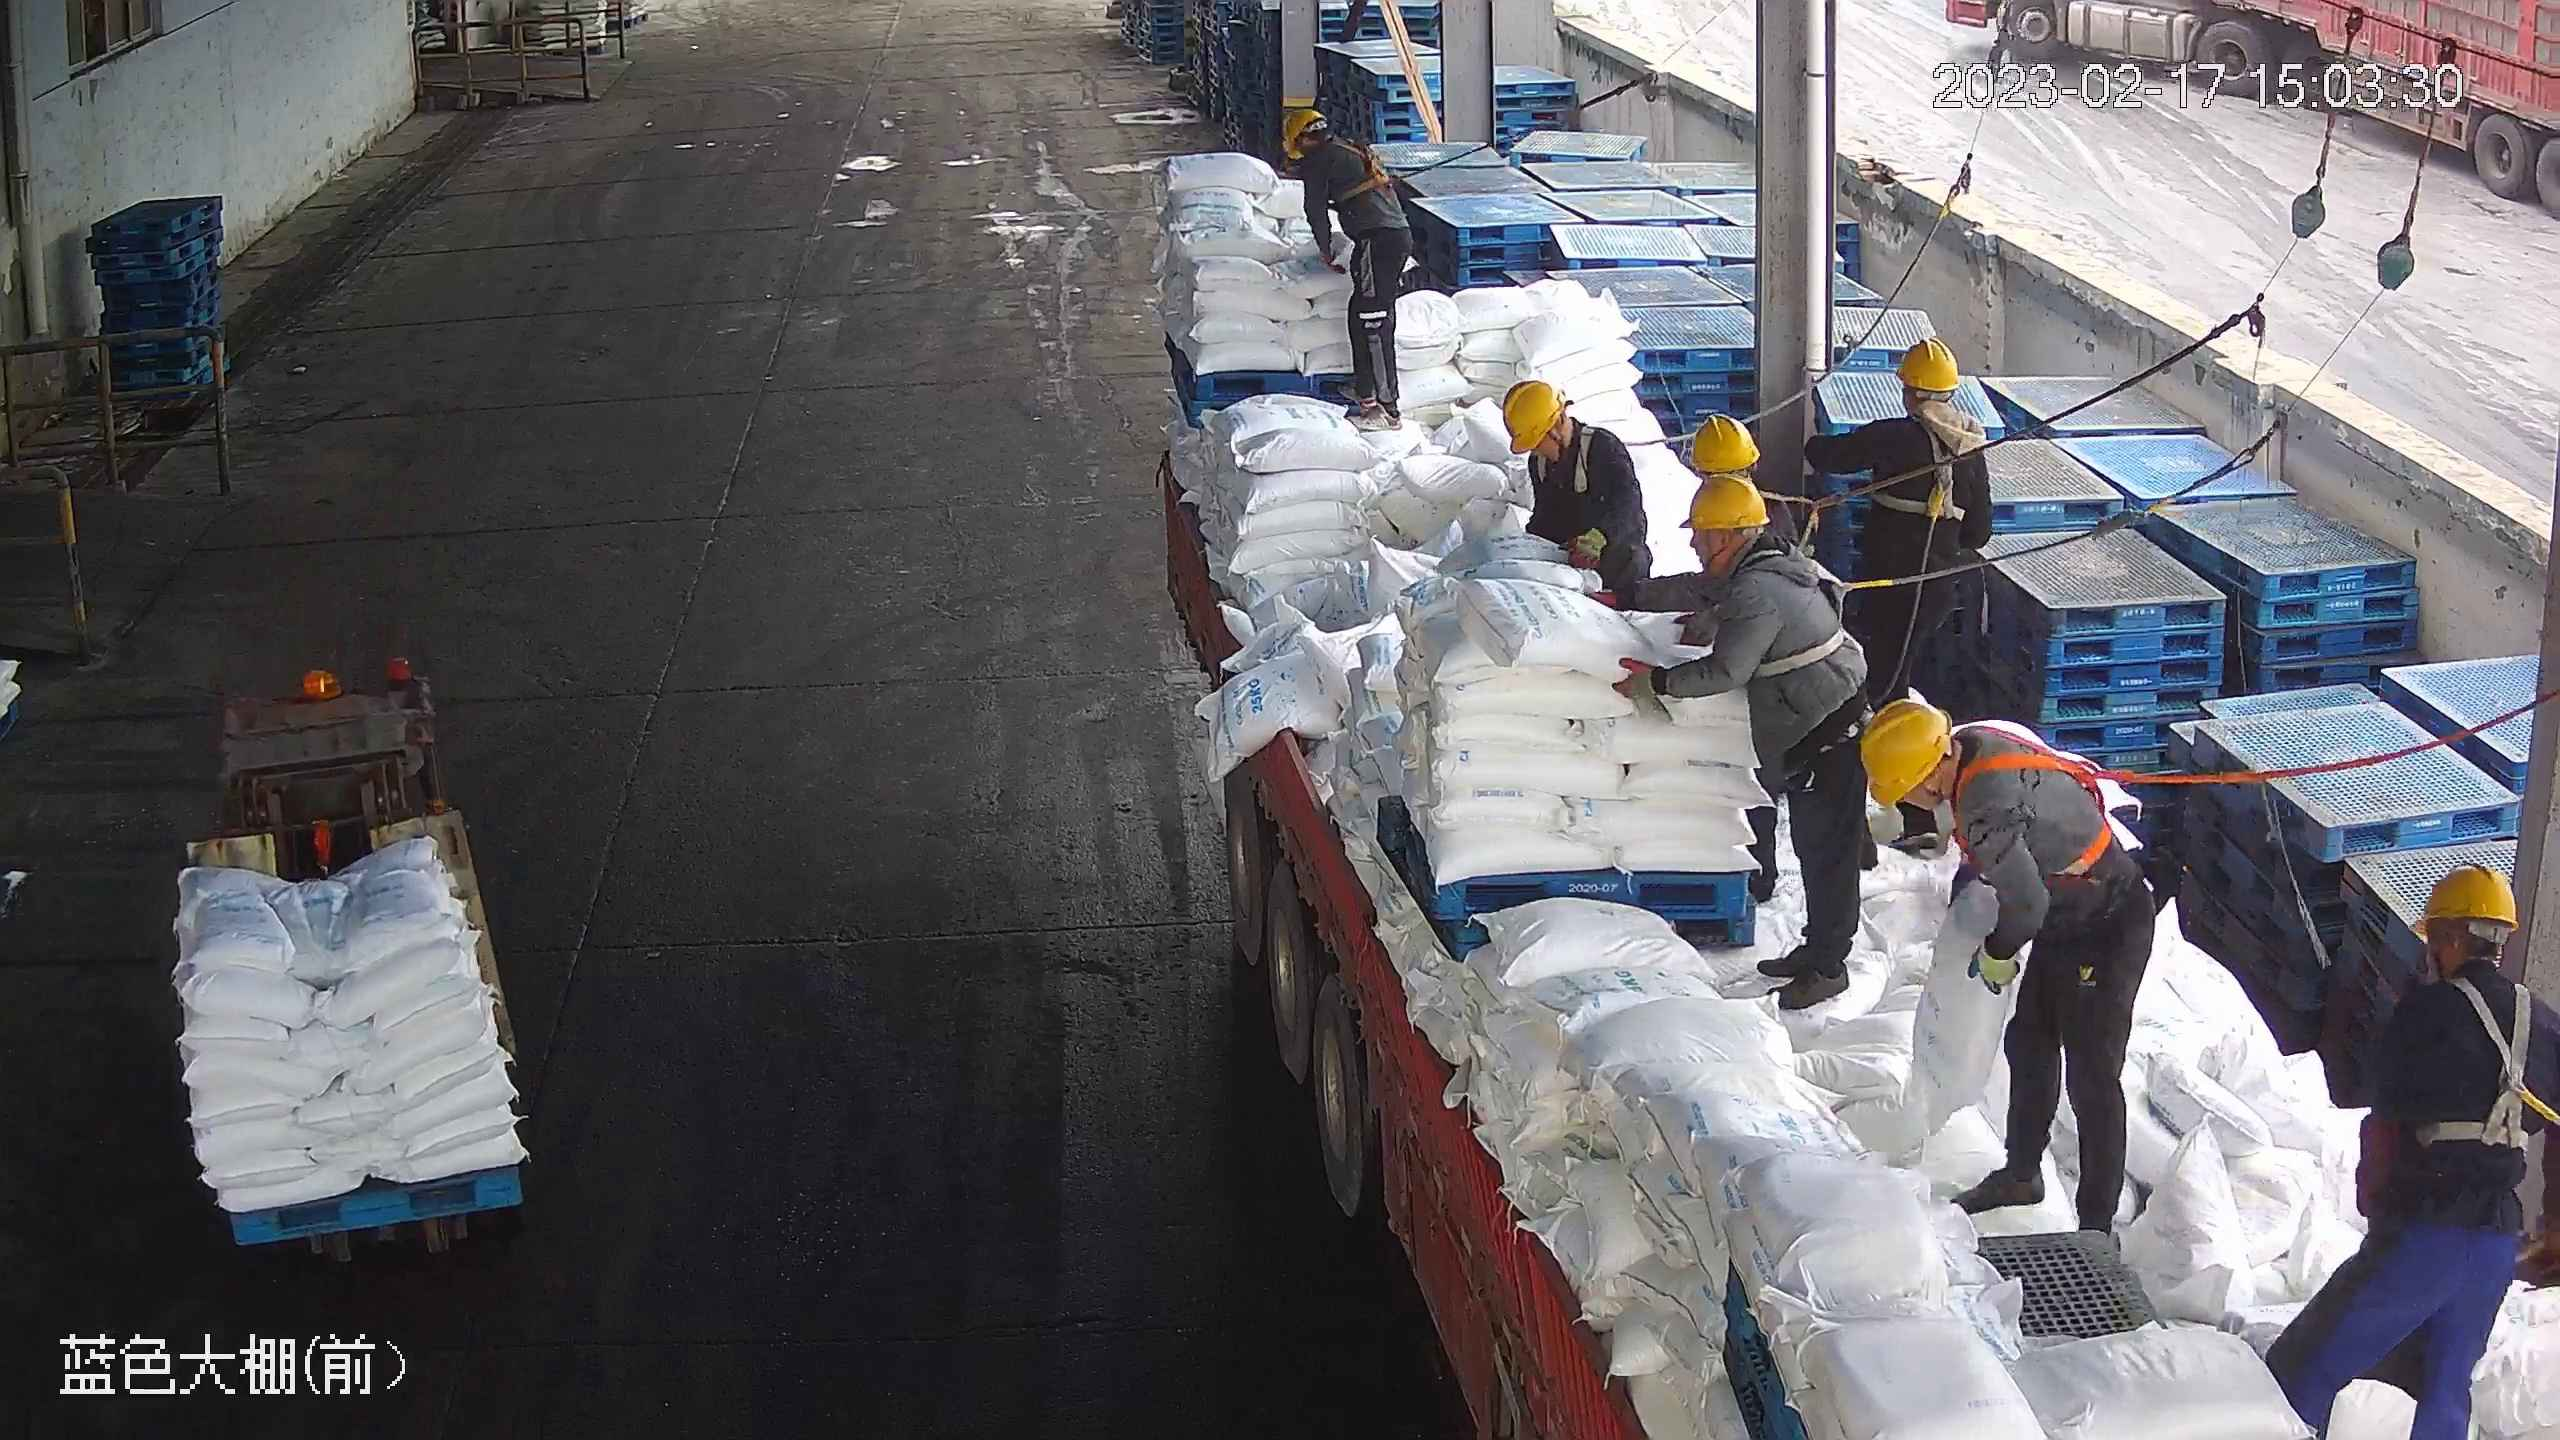belt: (1946, 728, 2142, 890), (2400, 972, 2560, 1152), (1723, 542, 1872, 681), (1885, 403, 1986, 523), (1753, 482, 1847, 555), (1321, 135, 1402, 208), (1535, 417, 1611, 492)
head: (2378, 859, 2557, 1059), (1857, 695, 2059, 854), (1674, 472, 1824, 618), (1861, 335, 1989, 477), (1500, 374, 1633, 480), (1284, 102, 1380, 182)
helmet: (1857, 695, 1949, 809), (2411, 862, 2518, 941), (1679, 473, 1770, 531), (1499, 376, 1566, 451), (1686, 410, 1761, 471), (1894, 335, 1962, 392), (1283, 102, 1328, 158)
people: (2258, 859, 2558, 1440), (1858, 693, 2160, 1237), (1618, 468, 1879, 1009), (1285, 100, 1418, 426), (1498, 375, 1653, 608)
truck: (1085, 162, 2553, 1431)
